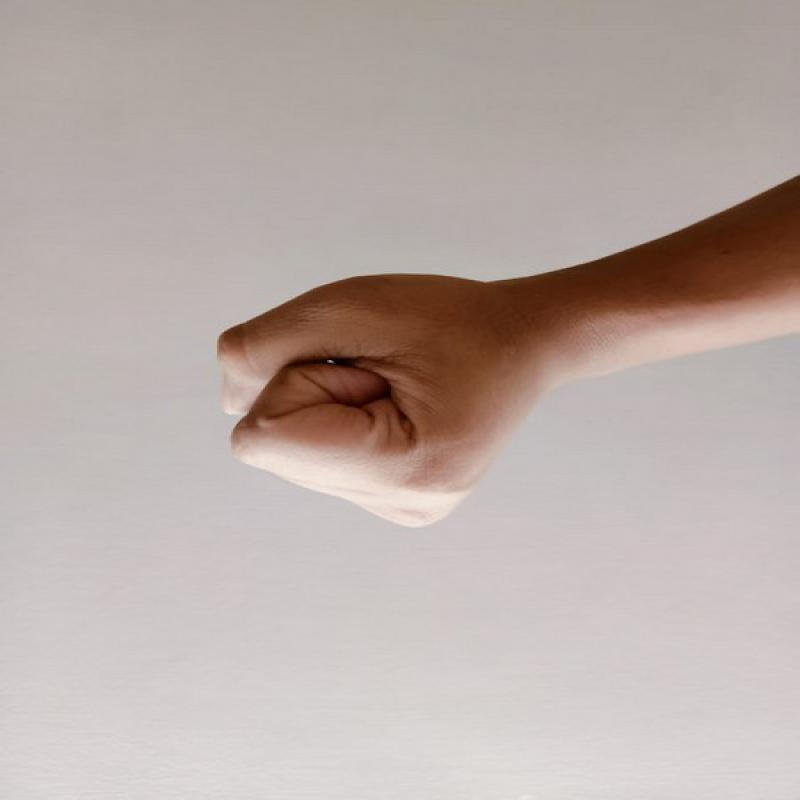Mushti: (191, 259, 556, 546)
